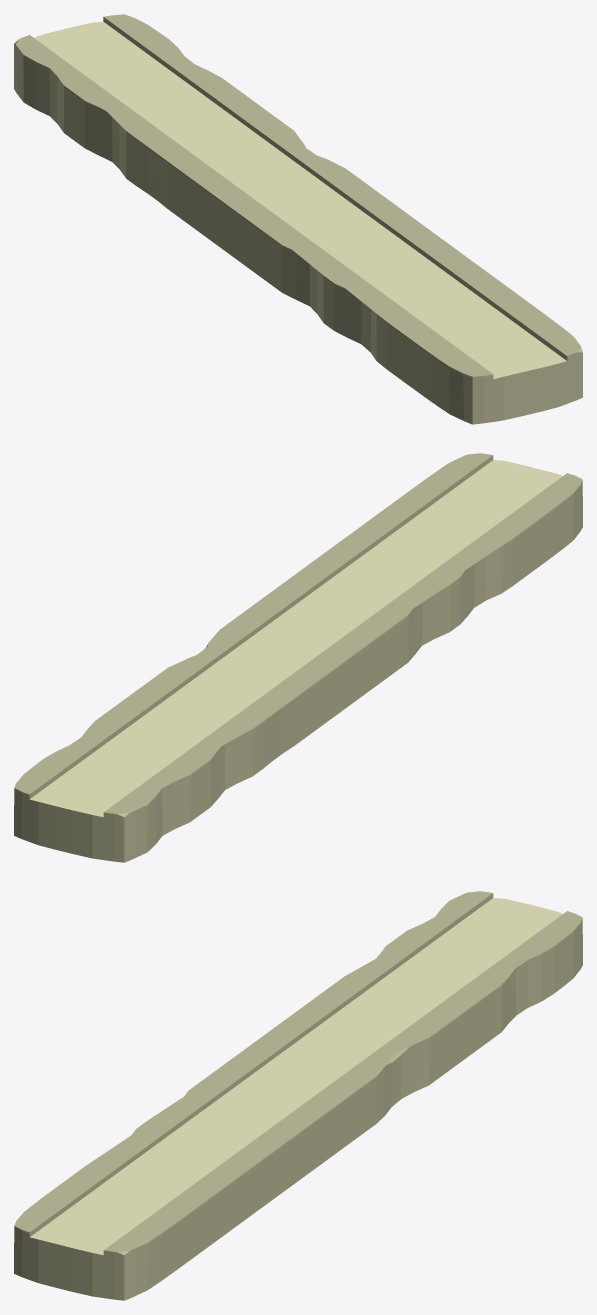
File: Camino.fbx
3 views of the same model, one above another, from view 1: azimuth 30°, elevation 25°; view 2: azimuth 150°, elevation 25°; view 3: azimuth 330°, elevation 25° (orthographic).
Visible parts, largest first — view 1: Cube.006_dmg.002; view 2: Cube.006_dmg.002; view 3: Cube.006_dmg.002.
Boxes of the visible parts, x1,y1,x2,y2 form: Cube.006_dmg.002: [14, 14, 582, 424]; Cube.006_dmg.002: [14, 453, 582, 862]; Cube.006_dmg.002: [14, 891, 582, 1300].
Bounding box in the file's own units: 559 × 202 × 3572.
